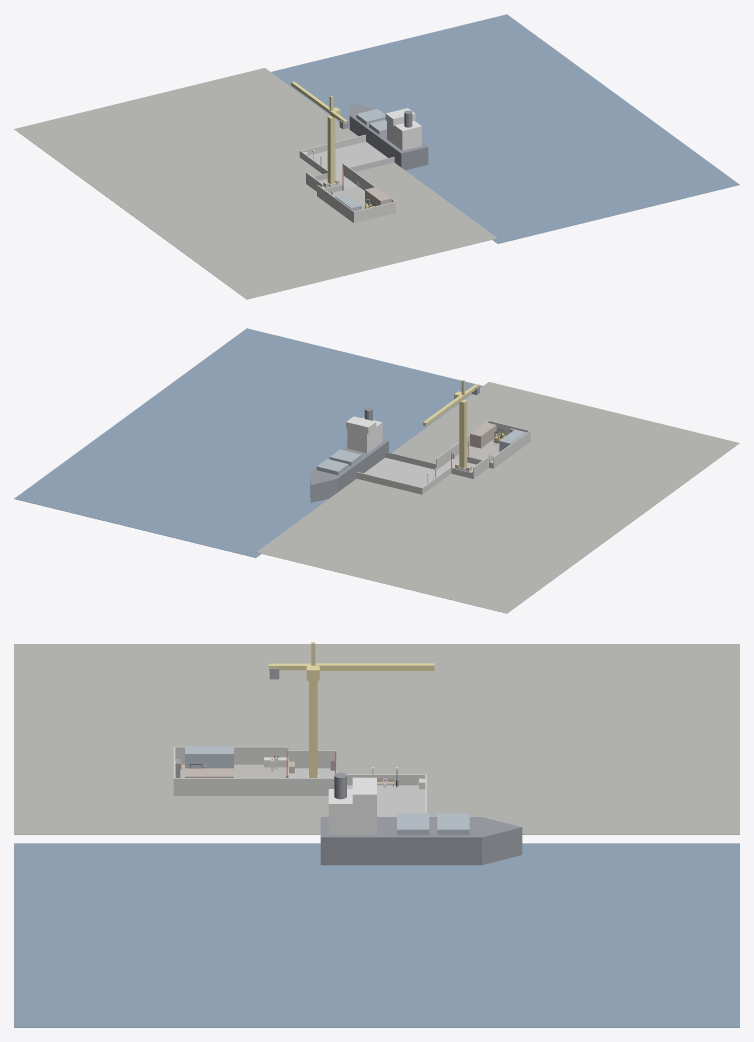
3 renders of one model, top to bottom at view 1: azimuth 30°, elevation 25°; view 2: azimuth 150°, elevation 25°; view 3: azimuth 270°, elevation 25°, orthographic. The views are drawn at different scales.
Parts seen in each view (by area): view 1: outer_ground, harbour_water, ship_hull, quay_deck, ship_deckhouse, crane_mast, lot_entrance_wall; view 2: outer_ground, harbour_water, ship_hull, quay_deck, ship_deckhouse, crane_mast, quay_north_wall, right_container; view 3: harbour_water, outer_ground, ship_hull, lot_east_wall, ship_deckhouse, quay_deck, left_container, lot_west_wall, crane_jib, crane_mast, base_east_wall, ship_cargo_hatch_1 (+4 smaller).
Part boxes in pixels (<box>): outer_ground: <box>14,68,497,299</box>; harbour_water: <box>271,14,739,243</box>; ship_hull: <box>349,103,428,170</box>; quay_deck: <box>308,141,387,176</box>; ship_deckhouse: <box>387,120,421,150</box>; crane_mast: <box>327,116,335,184</box>; lot_entrance_wall: <box>353,201,395,223</box>; outer_ground: <box>256,382,739,613</box>; harbour_water: <box>14,328,482,557</box>; ship_hull: <box>310,439,388,502</box>; quay_deck: <box>364,457,443,487</box>; ship_deckhouse: <box>347,417,382,453</box>; crane_mast: <box>459,400,467,468</box>; quay_north_wall: <box>356,472,422,494</box>; right_container: <box>470,422,496,448</box>; harbour_water: <box>14,843,739,1027</box>; outer_ground: <box>14,644,739,834</box>; ship_hull: <box>320,817,522,865</box>; lot_east_wall: <box>175,778,288,795</box>; ship_deckhouse: <box>328,789,376,834</box>; quay_deck: <box>347,785,425,816</box>; left_container: <box>185,746,233,768</box>; lot_west_wall: <box>175,746,288,764</box>; crane_jib: <box>313,663,434,670</box>; crane_mast: <box>309,680,317,777</box>; base_east_wall: <box>288,778,334,795</box>; ship_cargo_hatch_1: <box>437,813,469,835</box>.
Size of the model in its own units: 110 by 20.6 by 90.
